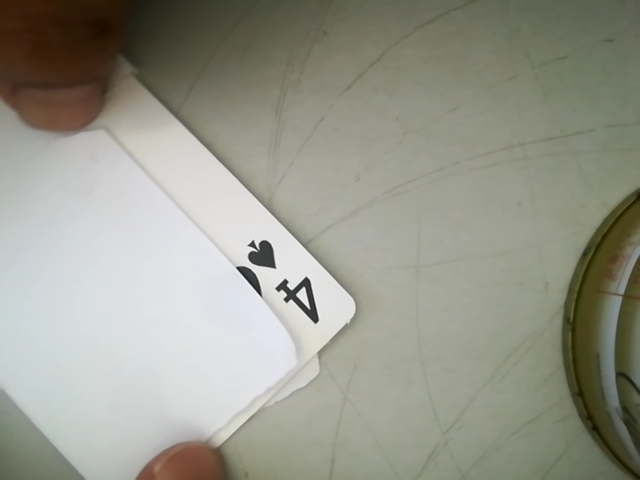ht 4: (226, 225, 335, 336)
